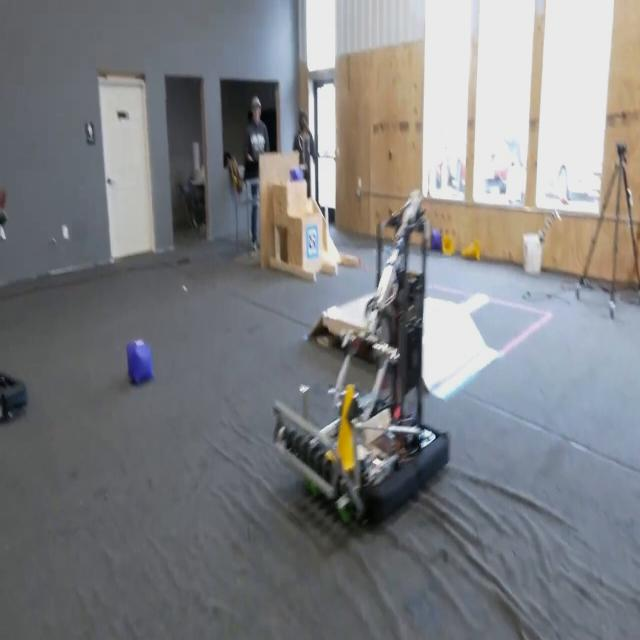frc_cone: (334, 382, 358, 476), (461, 243, 482, 259), (444, 232, 455, 259)
frc_cube: (127, 336, 150, 386), (428, 228, 440, 251)
